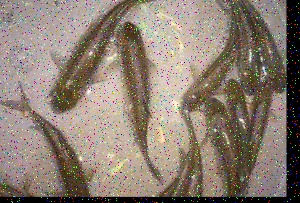fry: (36, 13, 106, 114), (114, 22, 163, 140), (31, 119, 93, 196), (200, 95, 236, 169), (179, 56, 226, 111), (249, 78, 276, 163), (257, 16, 286, 93), (180, 125, 208, 196), (238, 24, 263, 97), (223, 76, 252, 136)
